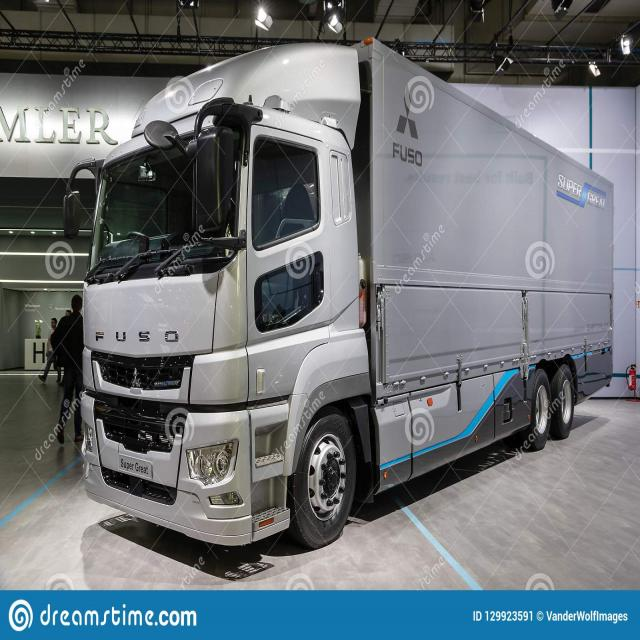truck: (61, 31, 617, 555)
